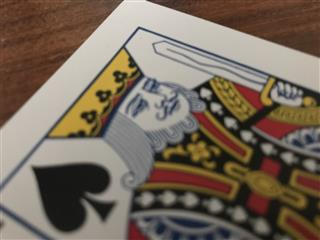KingOfSpades: (1, 1, 320, 240)
